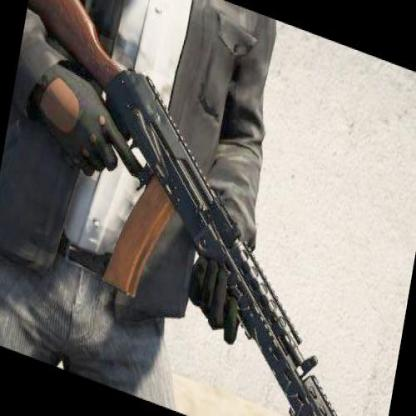rifle: (0, 0, 399, 416)
